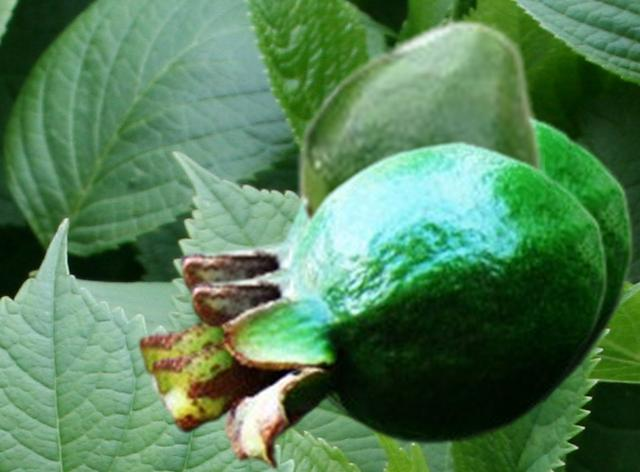guava: (137, 113, 634, 451), (150, 139, 608, 469), (289, 16, 543, 226)
